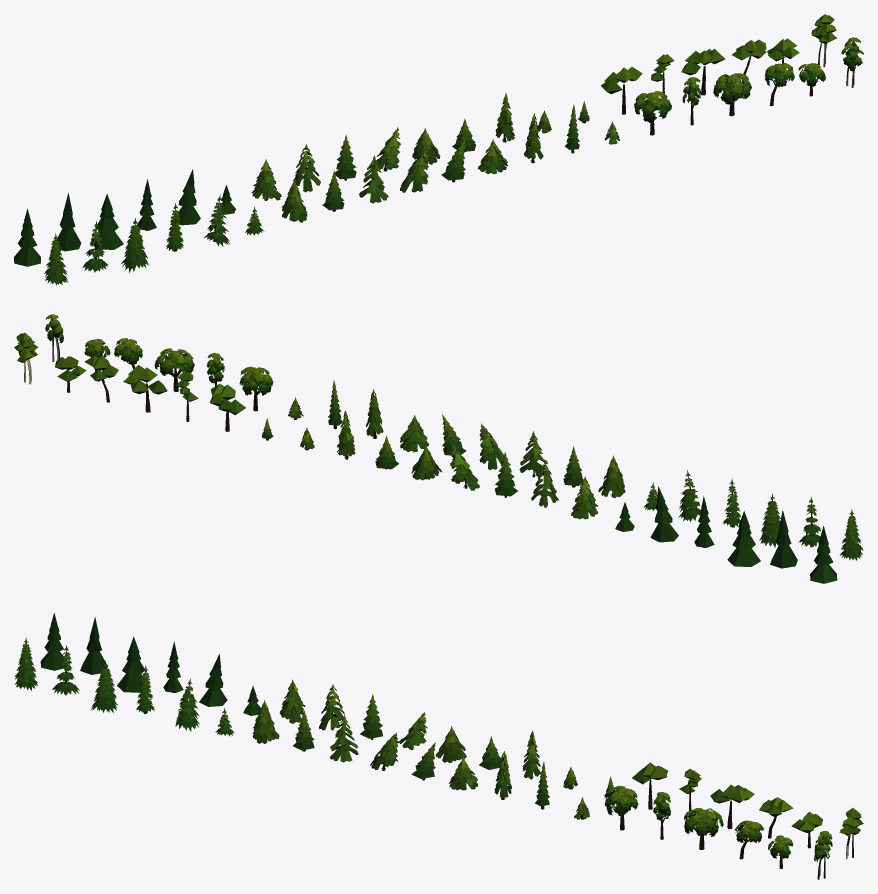
Rendered from trees.glb.
3 views of the same model, one above another, from view 1: azimuth 30°, elevation 25°; view 2: azimuth 150°, elevation 25°; view 3: azimuth 330°, elevation 25° (orthographic).
Visible parts, largest first — view 1: spreading, oak, pine_broad_lod, pine_full_lod, pine_broad, pine_sparse_lod, pine_lean_lod, spreading_lod, spruce_lean, spruce_open, spruce_open_mid, pine_full (+14 smaller); view 2: pine_broad_lod, spreading, oak, spreading_lod, pine_full_lod, pine_sparse_lod, pine_lean_lod, oak_lod, spruce_mid, pine_broad, pine_full, spruce_lean_mid (+16 smaller); view 3: spreading, pine_broad_lod, oak, pine_broad, pine_full_lod, pine_sparse_lod, pine_lean_lod, spruce_open_mid, pine_lean, pine_full, spruce, spruce_open (+14 smaller).
Part boxes in pixels (x1,y1,x2,y2): spreading: (713, 73, 751, 116); oak: (634, 91, 671, 135); pine_broad_lod: (90, 194, 123, 249); pine_full_lod: (14, 208, 40, 266); pine_broad: (121, 218, 149, 272); pine_sparse_lod: (56, 192, 81, 251); pine_lean_lod: (176, 169, 200, 225); spreading_lod: (681, 48, 725, 95); spruce_lean: (400, 147, 428, 192); spruce_open: (293, 144, 320, 192); spruce_open_mid: (359, 155, 388, 203); pine_full: (44, 233, 68, 285); pine_broad_lod: (727, 511, 760, 566); spreading: (154, 348, 194, 391); oak: (239, 366, 273, 411); spreading_lod: (123, 365, 167, 412); pine_full_lod: (810, 526, 837, 583); pine_sparse_lod: (770, 510, 797, 568); pine_lean_lod: (650, 486, 678, 542); oak_lod: (209, 384, 245, 431); spruce_mid: (571, 476, 598, 519); pine_broad: (759, 493, 780, 547); pine_full: (840, 509, 863, 560); spruce_lean_mid: (450, 444, 479, 490); spreading: (684, 808, 723, 849); pine_broad_lod: (117, 636, 150, 692); oak: (604, 785, 638, 830); pine_broad: (90, 660, 117, 712); pine_full_lod: (40, 613, 65, 670); pine_sparse_lod: (80, 617, 107, 674); pine_lean_lod: (199, 654, 227, 706); spruce_open_mid: (330, 714, 358, 762); pine_lean: (175, 678, 199, 731); pine_full: (14, 637, 38, 690); spruce: (252, 700, 279, 743); spruce_open: (319, 684, 344, 730).
Size of the model in its own units: 134 by 9.96 by 14.96.
